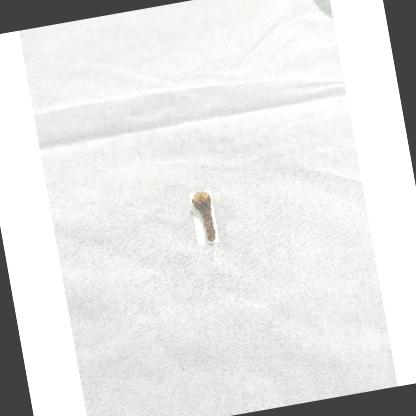sedang: (192, 191, 216, 243)
